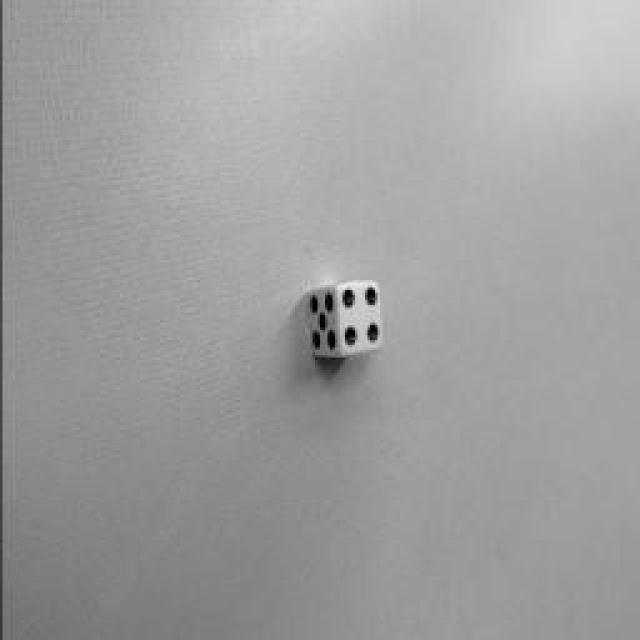dice_4: (335, 281, 380, 359)
